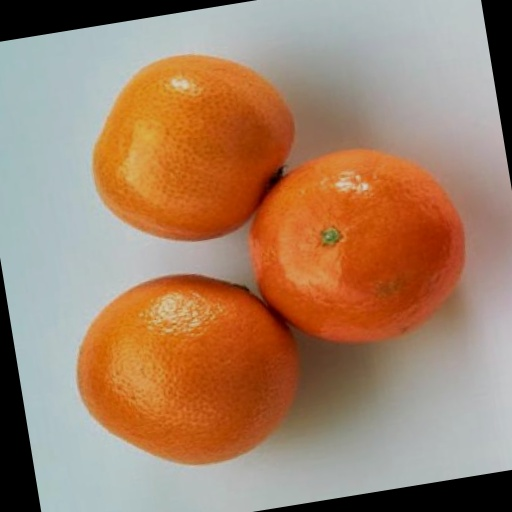fruit: (77, 275, 297, 464), (249, 150, 464, 342), (92, 55, 293, 240)
